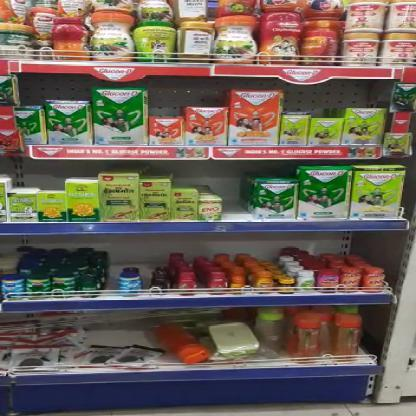Glucon D Nimbu Pani 1-KG: (348, 167, 398, 216), (340, 110, 386, 146)
Glucon D Regular 1-KG: (94, 90, 145, 142), (293, 166, 344, 218), (49, 102, 89, 142)
Glucon D Tangy orange 1-KG: (229, 92, 278, 146)
